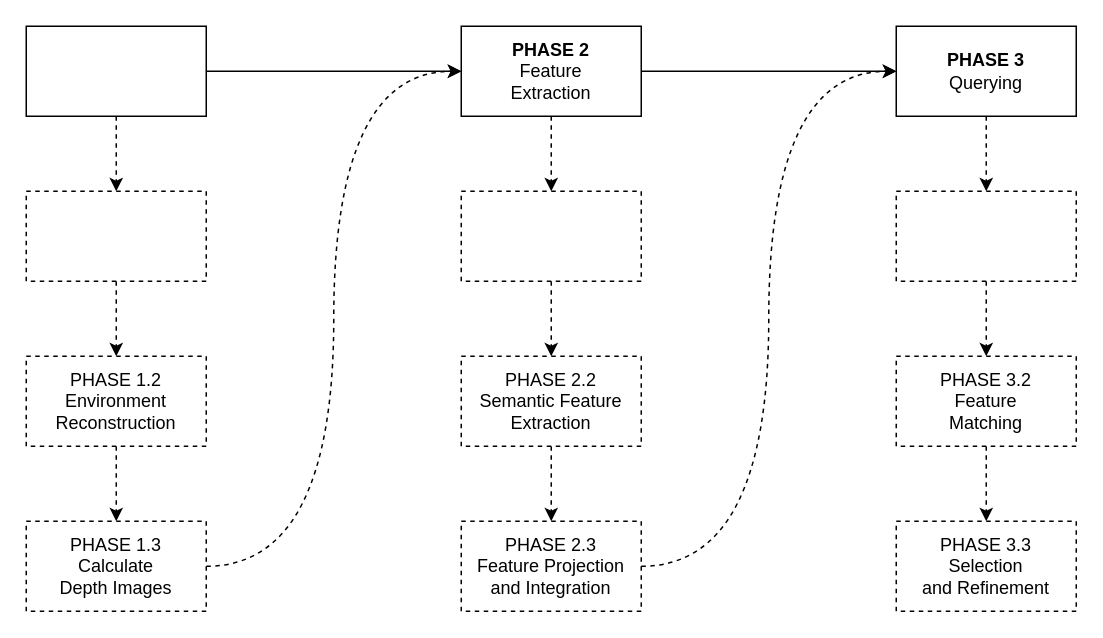
The diagram is 1103 pixels wide and 638 high, and some of its shapes have lost their labels. Each missing label, with the centre of its shape:
PHASE 1 Environment Reconstruction: point (115, 70)
PHASE 1.1 Scan the Environment: point (115, 235)
PHASE 2.1 Agnostic Segmentation: point (550, 235)
PHASE 3.1 Query Processing: point (985, 235)
